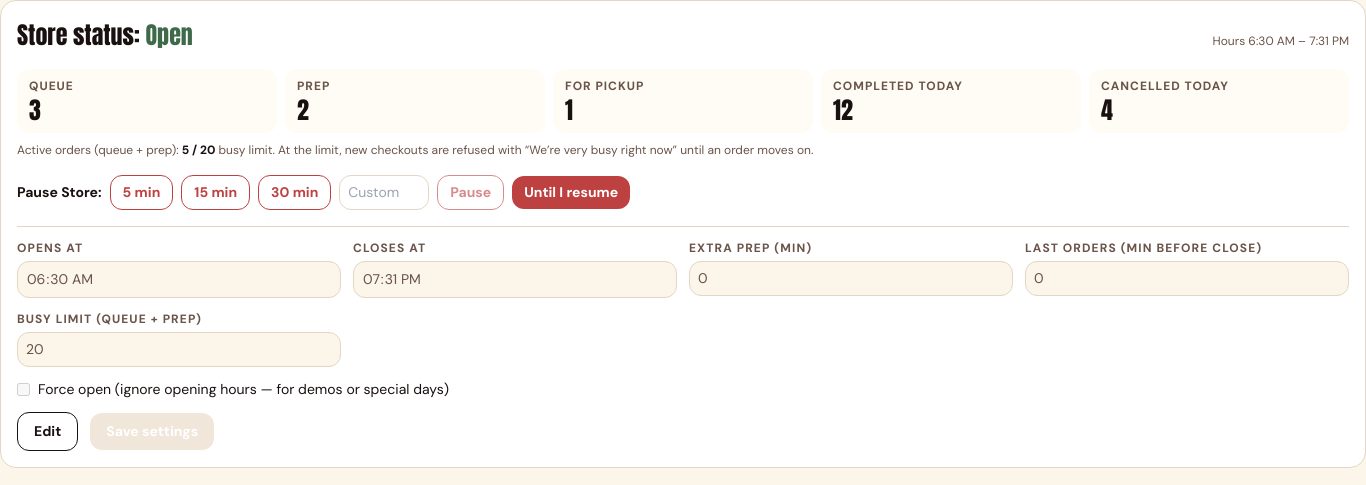
Scenario: StoreControlPanel (issue #115 follow-up) › Cancel throws the changes away
Click the button "Edit" at [48, 432], box [17,412,78,451]
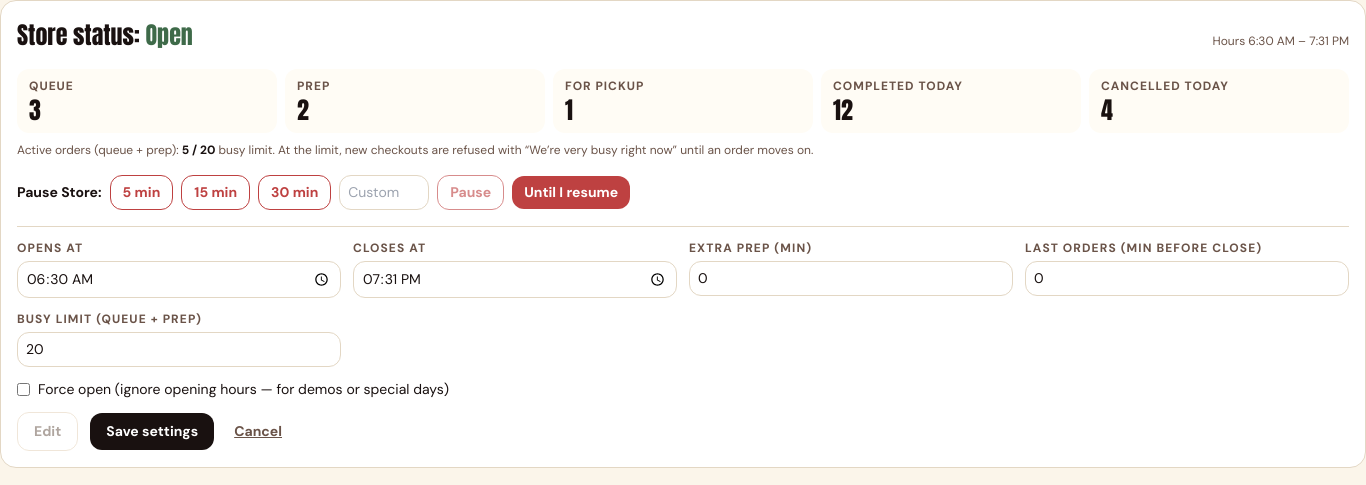
Replace the text in the time field labelled "Opens at" with "09:00" at [179, 280], box [17,261,341,298]
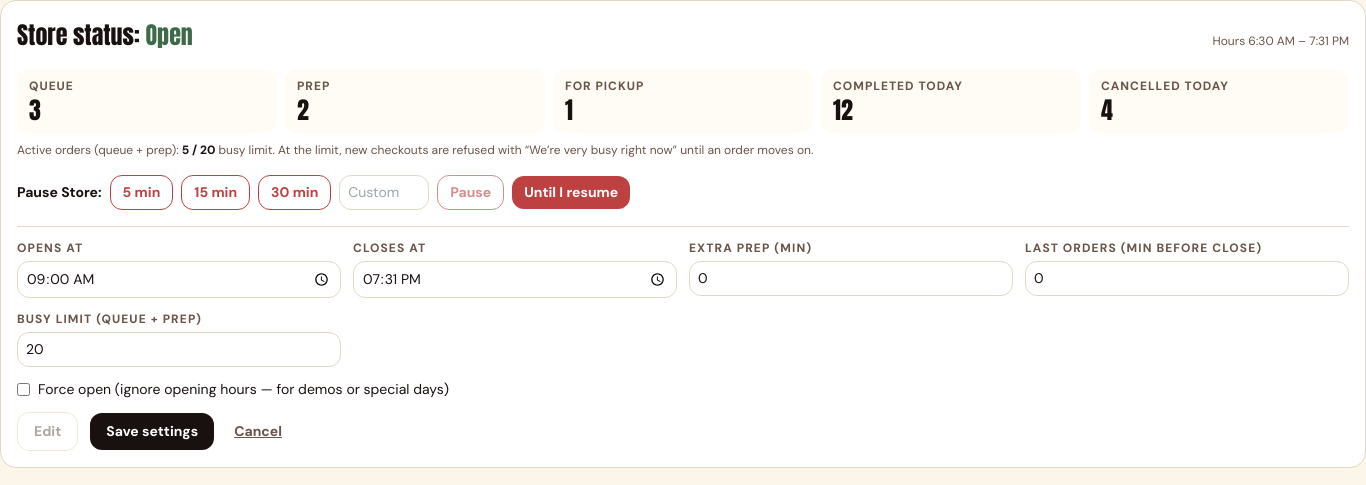
Click the button "Cancel" at [258, 432], box [226,413,290,450]
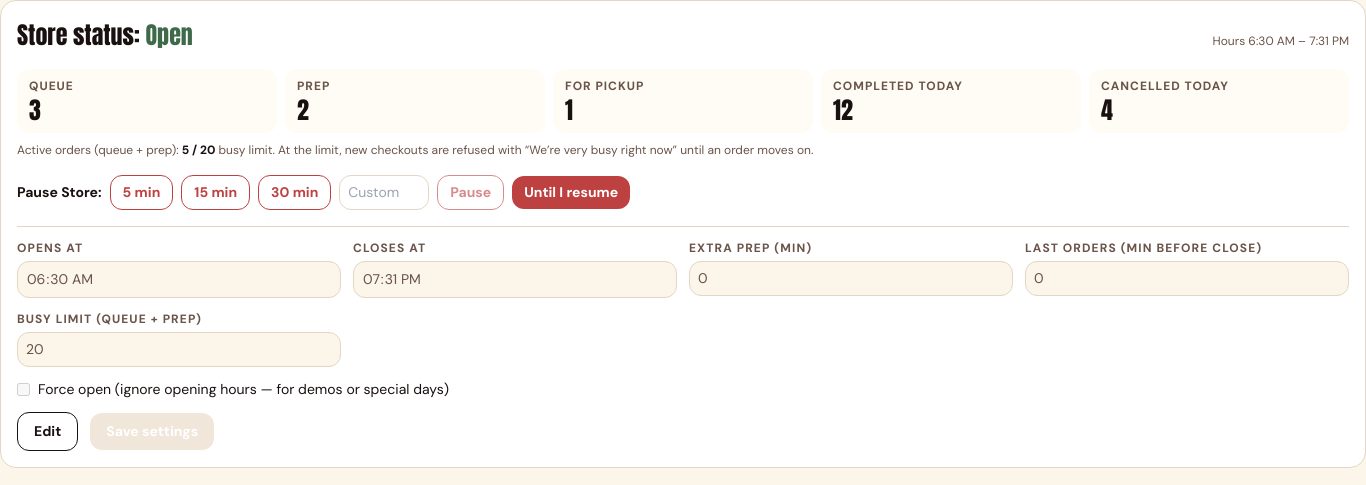
Check: the time field labelled "Opens at" holds "06:30", box [17,261,341,298]
Check: the button "Save settings" is disabled, box [90,413,214,450]
